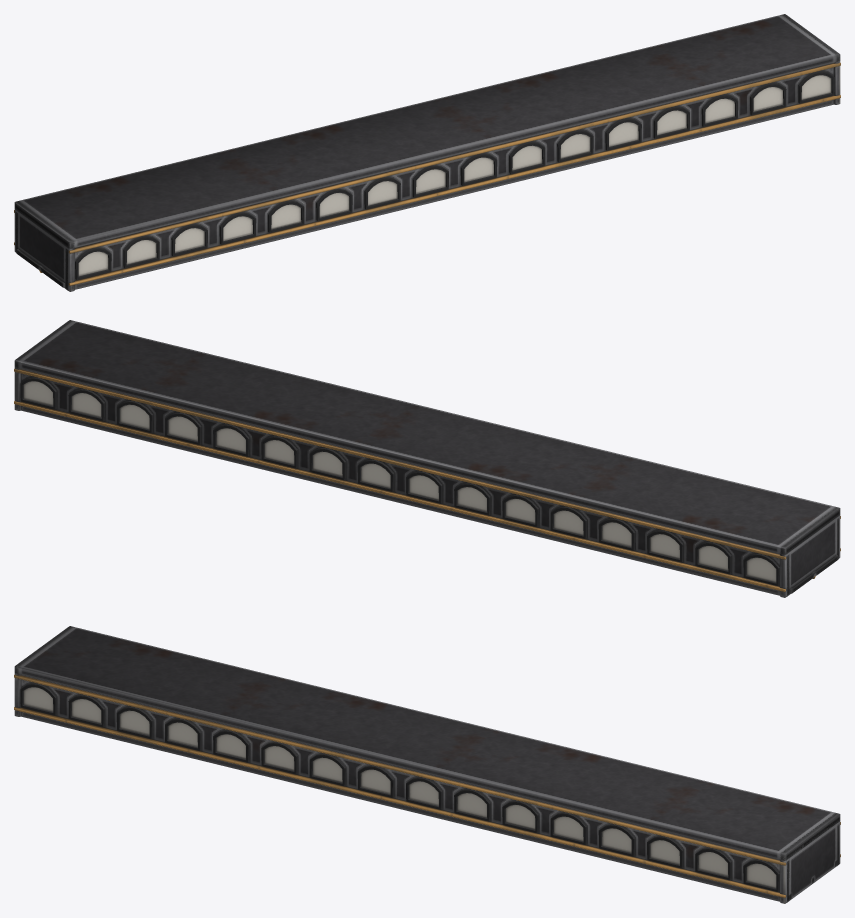
Rendered from CorridorStripLight.fbx.
3 renders of one model, top to bottom at view 1: azimuth 30°, elevation 25°; view 2: azimuth 150°, elevation 25°; view 3: azimuth 330°, elevation 25°, orthographic.
Visible parts, largest first — view 1: CorridorStripLight_Main, CorridorStripLight_Glow; view 2: CorridorStripLight_Main, CorridorStripLight_Glow; view 3: CorridorStripLight_Main, CorridorStripLight_Glow.
Part boxes in pixels (<box>): CorridorStripLight_Main: <box>14,14,840,291</box>; CorridorStripLight_Glow: <box>78,75,831,276</box>; CorridorStripLight_Main: <box>14,320,840,597</box>; CorridorStripLight_Glow: <box>23,381,776,582</box>; CorridorStripLight_Main: <box>14,626,840,903</box>; CorridorStripLight_Glow: <box>23,687,776,888</box>.
Bounding box in the file's own units: 803 × 50.5 × 101.
